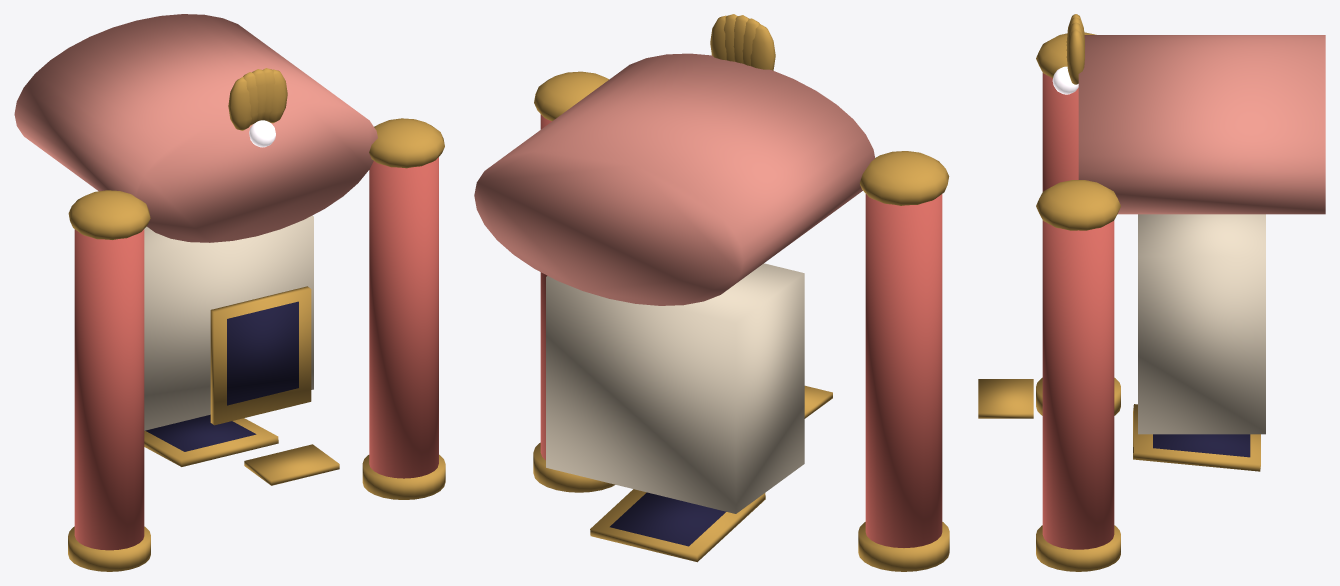
Rendered from opera_pastry_chef_oven.glb.
3 views of the same model, side by side, from view 1: azimuth 30°, elevation 25°; view 2: azimuth 150°, elevation 25°; view 3: azimuth 270°, elevation 25° (orthographic). The views are drawn at different scales.
Visible parts, largest first — view 1: VisualMesh.004, DoorClosedHingeMesh, DoorOpenHingeMesh, StateActiveMesh.001; view 2: VisualMesh.004, DoorOpenHingeMesh, StateActiveMesh.001; view 3: VisualMesh.004, DoorOpenHingeMesh, StateActiveMesh.001.
Part boxes in pixels (x1,y1,x2,y2): VisualMesh.004: (14, 14, 445, 571); DoorClosedHingeMesh: (210, 286, 311, 425); DoorOpenHingeMesh: (144, 414, 278, 466); StateActiveMesh.001: (244, 444, 339, 485); VisualMesh.004: (474, 14, 949, 571); DoorOpenHingeMesh: (590, 489, 765, 562); StateActiveMesh.001: (804, 385, 832, 418); VisualMesh.004: (1036, 14, 1325, 571); DoorOpenHingeMesh: (1133, 404, 1260, 471); StateActiveMesh.001: (978, 379, 1033, 418).
Size of the model in its own units: 5.1 by 6 by 4.08.
